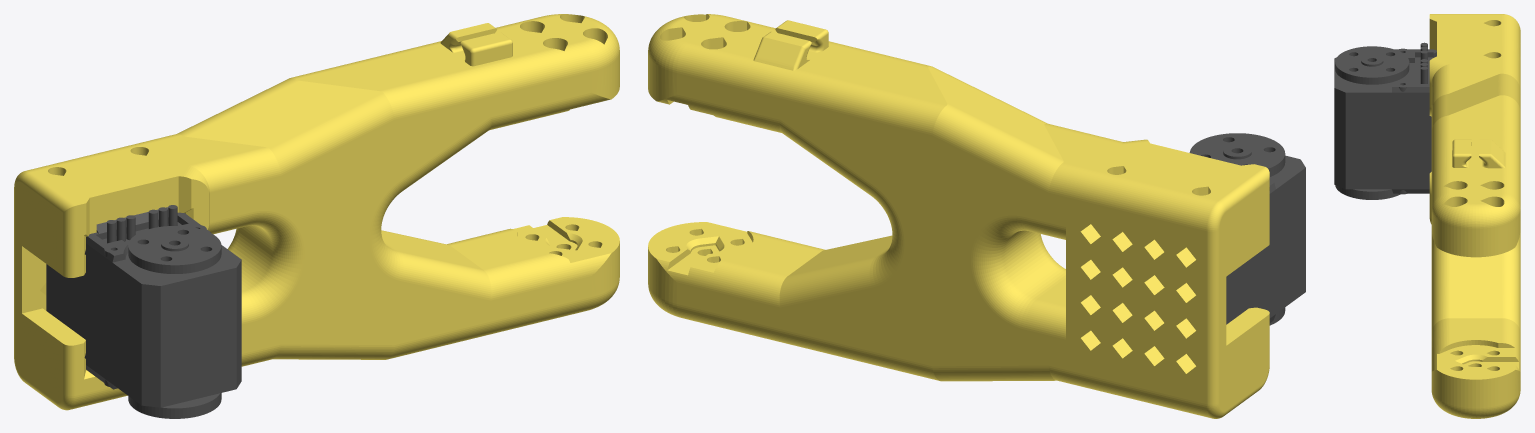
Rendered from upper_arm.glb.
The picture shows the model from 3 angles, left to right: view 1: azimuth 30°, elevation 25°; view 2: azimuth 150°, elevation 25°; view 3: azimuth 270°, elevation 25°; orthographic projection. The views are drawn at different scales.
Parts seen in each view (by area): view 1: upper_arm; view 2: upper_arm; view 3: upper_arm.
Part boxes in pixels (left/top/right/bottom): upper_arm: left=14, top=14, right=619, bottom=418; upper_arm: left=648, top=14, right=1305, bottom=418; upper_arm: left=1334, top=14, right=1520, bottom=418.
Bounding box in the file's own units: 0.1422 × 0.0673 × 0.0502.
